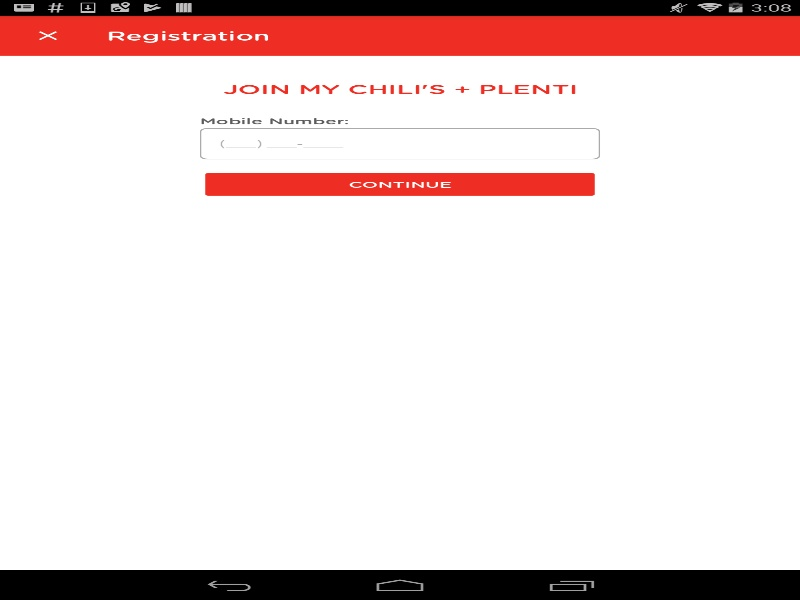Button: (200, 169, 600, 199), (10, 15, 85, 55)
Input: (200, 128, 600, 159)
